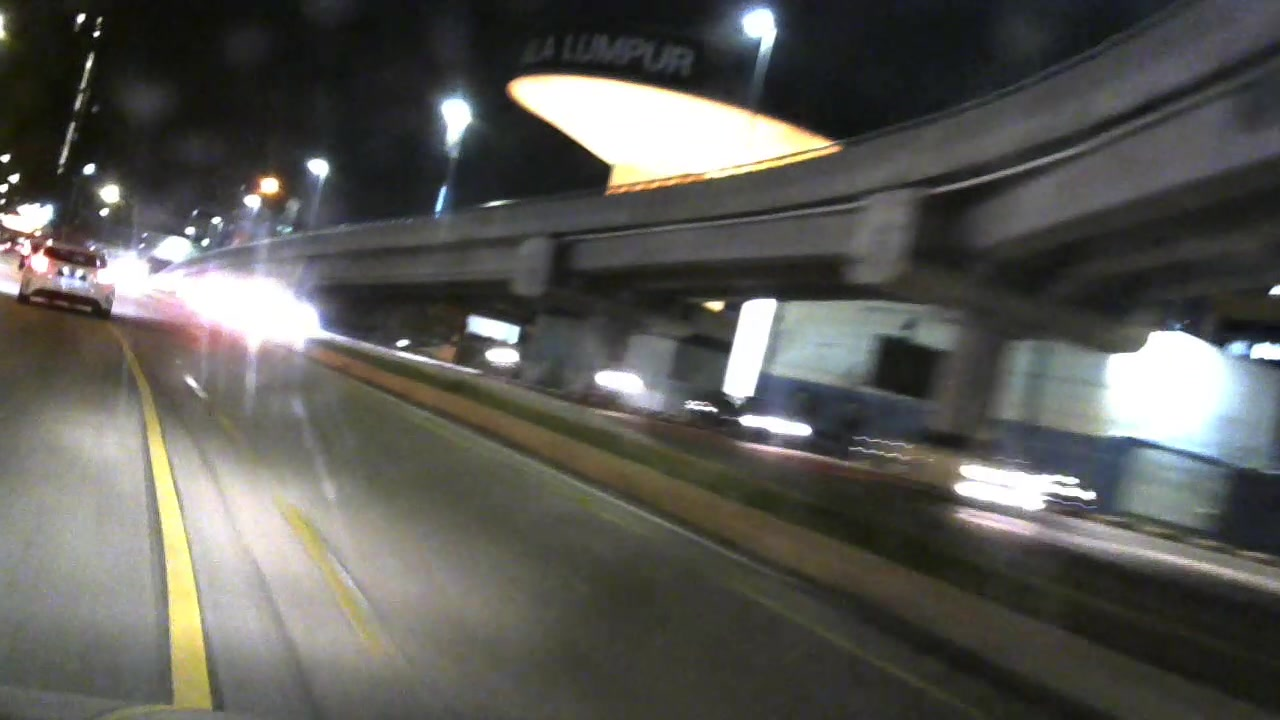Car: (20, 234, 120, 323)
